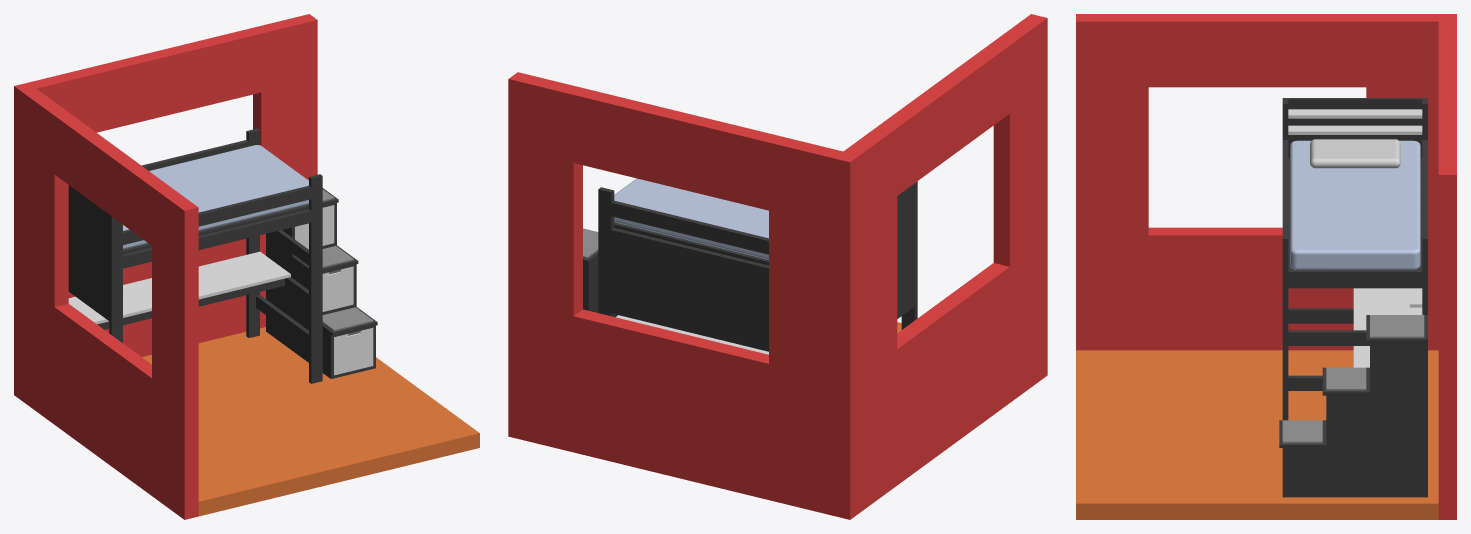
The model's file is TheWholeRoom.glb.
The picture shows the model from 3 angles, left to right: view 1: azimuth 30°, elevation 25°; view 2: azimuth 150°, elevation 25°; view 3: azimuth 270°, elevation 25°; orthographic projection. The views are drawn at different scales.
Parts seen in each view (by area): view 1: Red Walls, Wood Floor, Top Black Bedframe, Bottom Black Bedframe, Bed, Black Stairs, White Bedframe, White Drawer Bottom.001, White Mat, White Drawer Middle, White Drawer Top; view 2: Red Walls, Bottom Black Bedframe, Top Black Bedframe, Bed, Black Stairs; view 3: Red Walls, Wood Floor, Black Stairs, Bed, Top Black Bedframe, Bottom Black Bedframe, White Mat, Pillow, Top White Bedframe, White Bedframe.
Part boxes in pixels (<box>): Red Walls: <box>14,14,317,519</box>; Wood Floor: <box>142,327,479,516</box>; Top Black Bedframe: <box>68,128,322,271</box>; Bottom Black Bedframe: <box>68,220,322,383</box>; Bed: <box>123,145,308,249</box>; Black Stairs: <box>266,188,377,378</box>; White Bedframe: <box>68,251,290,324</box>; White Drawer Bottom.001: <box>334,328,373,375</box>; White Mat: <box>297,180,373,331</box>; White Drawer Middle: <box>322,266,353,311</box>; White Drawer Top: <box>295,205,334,249</box>; Red Walls: <box>508,14,1047,519</box>; Bottom Black Bedframe: <box>598,240,917,351</box>; Top Black Bedframe: <box>598,181,917,281</box>; Bed: <box>614,178,768,259</box>; Black Stairs: <box>583,228,617,317</box>; Red Walls: <box>1076,14,1456,519</box>; Wood Floor: <box>1076,350,1438,519</box>; Black Stairs: <box>1279,315,1427,497</box>; Bed: <box>1290,140,1420,269</box>; Top Black Bedframe: <box>1282,98,1427,288</box>; Bottom Black Bedframe: <box>1282,288,1427,420</box>; White Mat: <box>1282,315,1424,443</box>; Pillow: <box>1310,139,1400,168</box>; Top White Bedframe: <box>1288,109,1422,134</box>; White Bedframe: <box>1353,288,1422,367</box>.
Bounding box in the file's own units: 105 × 105 × 105.
